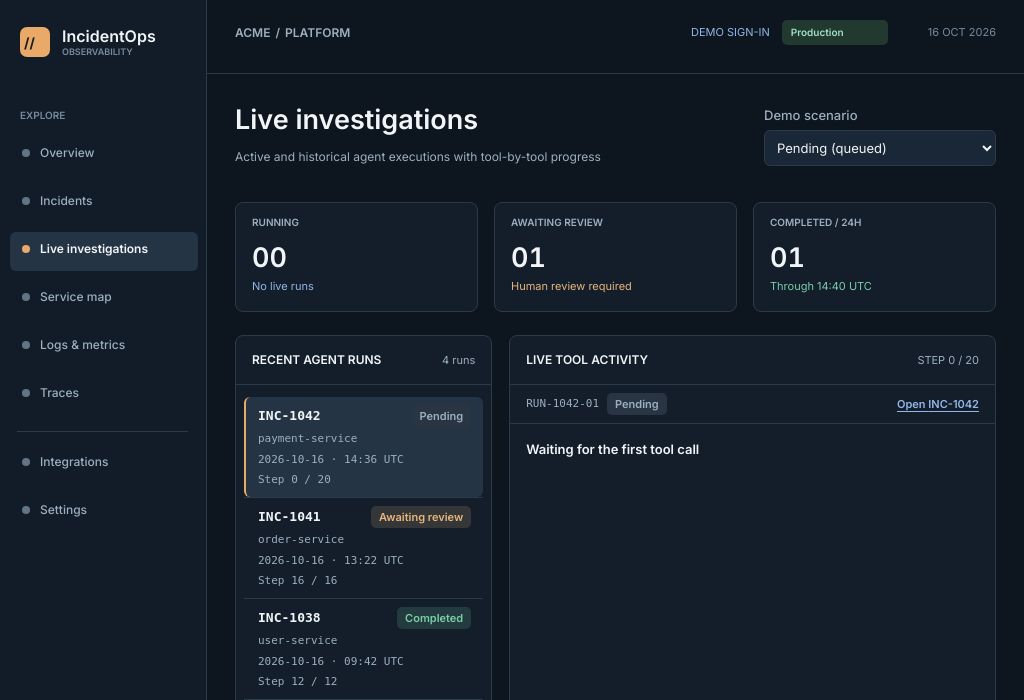
Test case: Live Investigations › plays snapshots from queued to running to awaiting review
Select "Running" in the dropdown named "demo". click: (880, 148)
box: [764, 130, 996, 166]
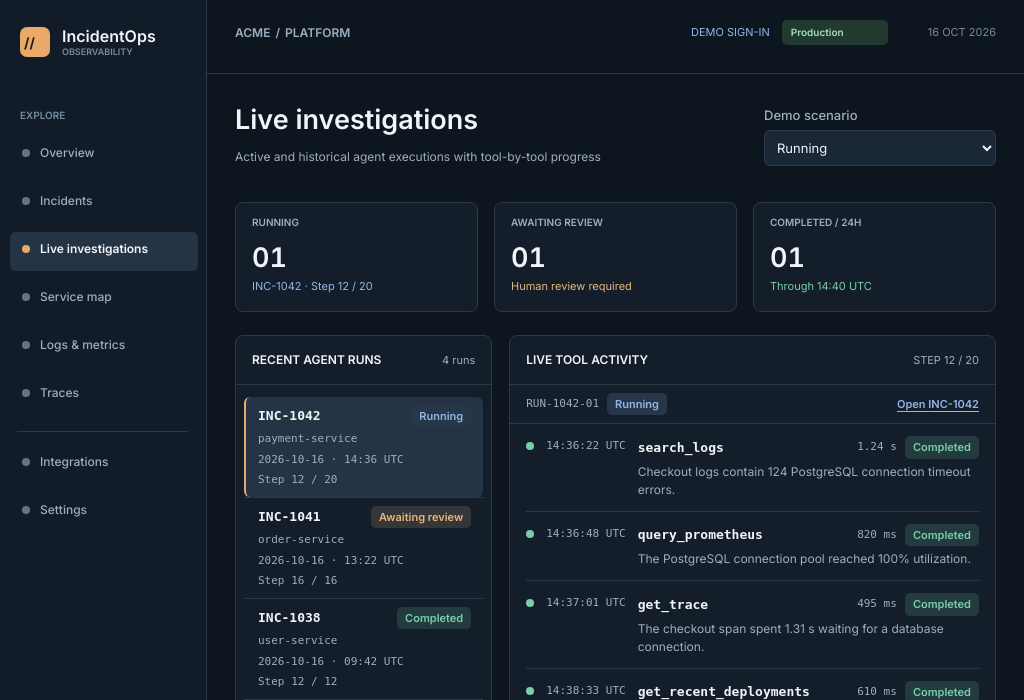
Select "Awaiting review" in the dropdown named "demo". click: (880, 148)
box: [764, 130, 996, 166]
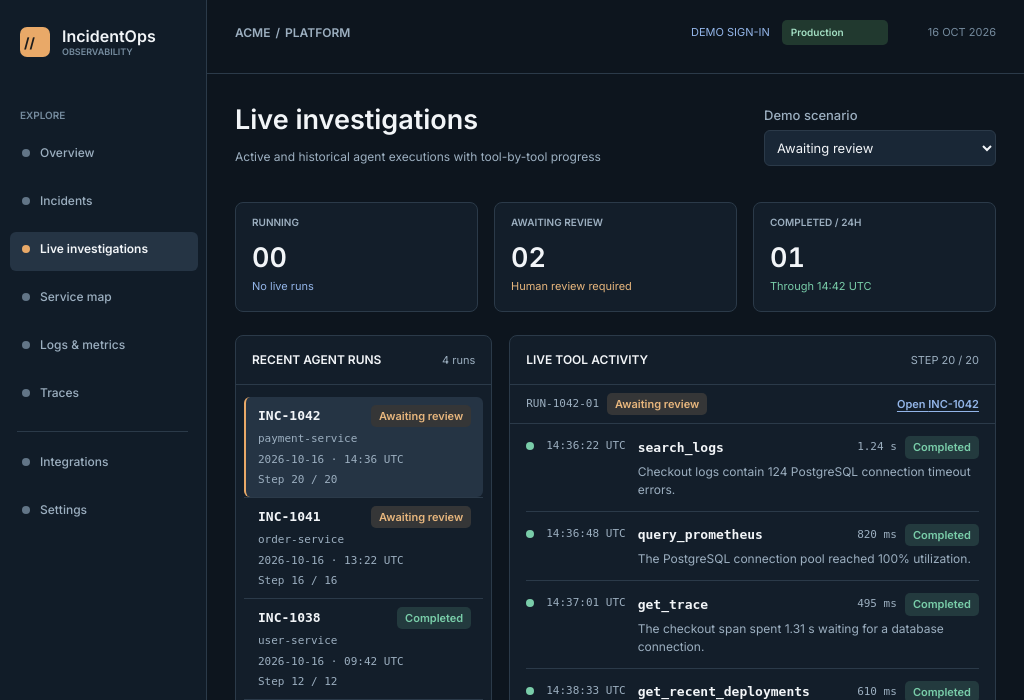
Expected: the button with class "run-select" shows "Awaiting review", [244, 397, 483, 497]
